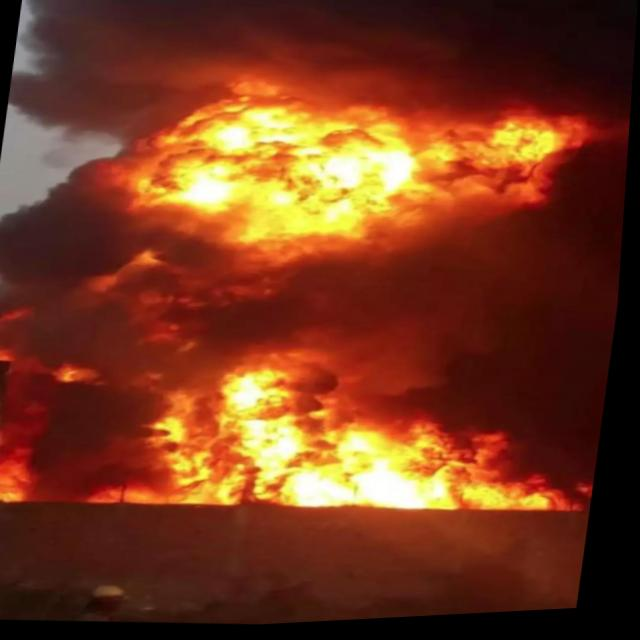fire: (95, 61, 593, 293), (132, 331, 597, 547)
